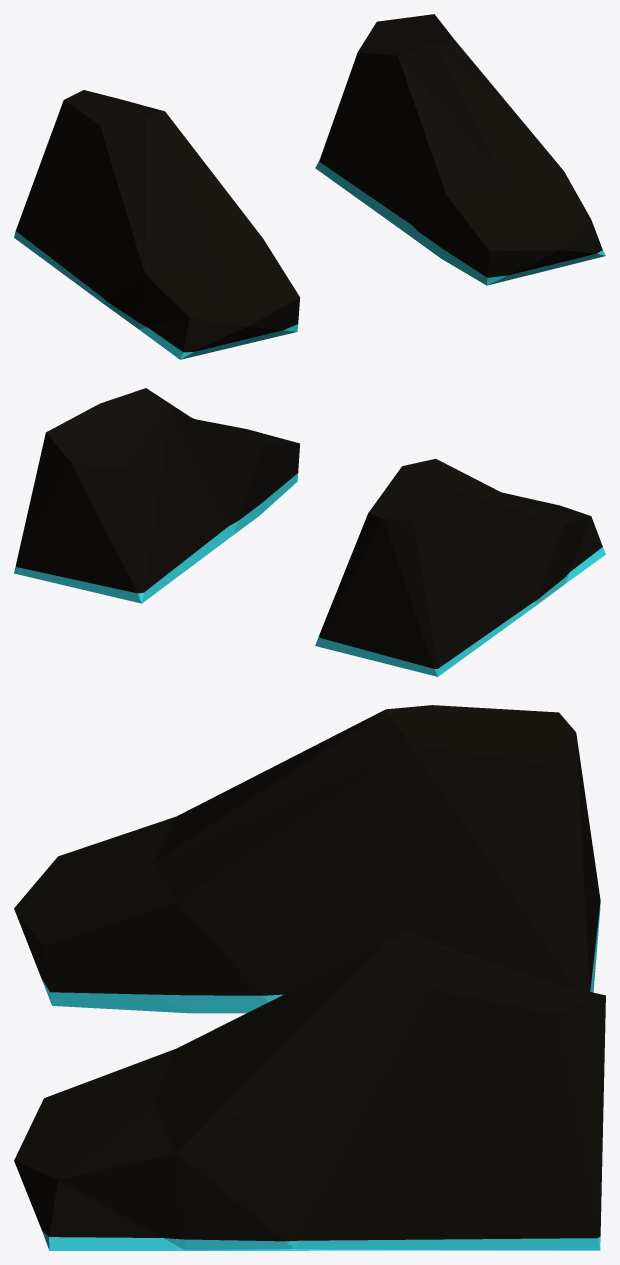
Rendered from shoes.fbx.
3 views of the same model, one above another, from view 1: azimuth 30°, elevation 25°; view 2: azimuth 150°, elevation 25°; view 3: azimuth 270°, elevation 25° (orthographic). The views are drawn at different scales.
Visible parts, largest first — view 1: shoes; view 2: shoes; view 3: shoes.
Part boxes in pixels (x1,y1,x2,y2): shoes: (14,14,605,359); shoes: (14,388,605,676); shoes: (14,705,605,1250).
Bounding box in the file's own units: 34.1 × 11.95 × 24.61.
